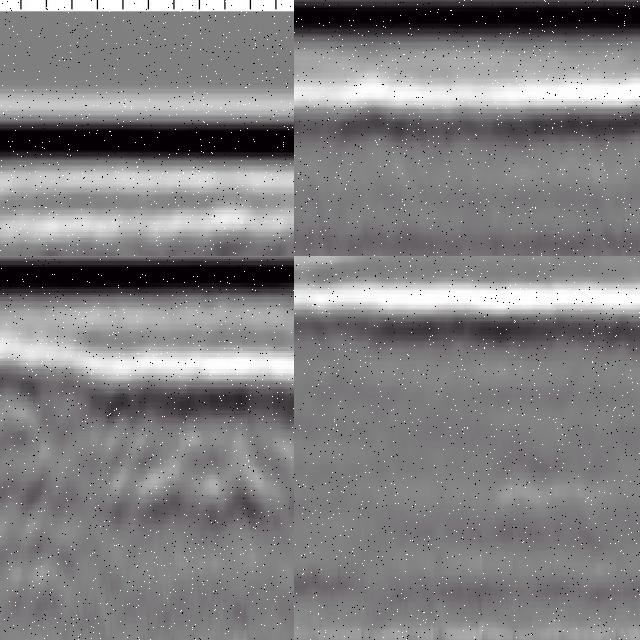loose: (1, 376, 295, 528)
